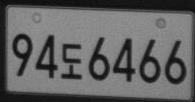4: (35, 34, 58, 78), (113, 38, 136, 82)
6: (163, 39, 187, 85), (87, 36, 110, 81), (139, 39, 161, 84)
9: (11, 32, 33, 76)
도: (60, 43, 83, 79)
